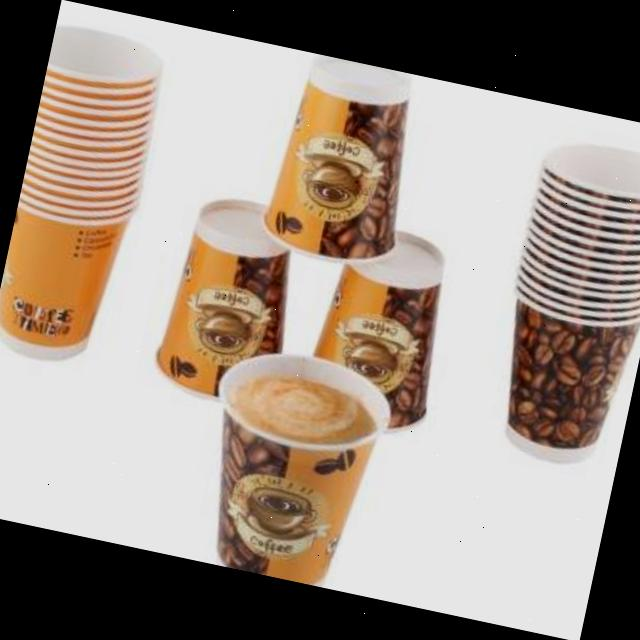trash: (182, 339, 398, 593)
